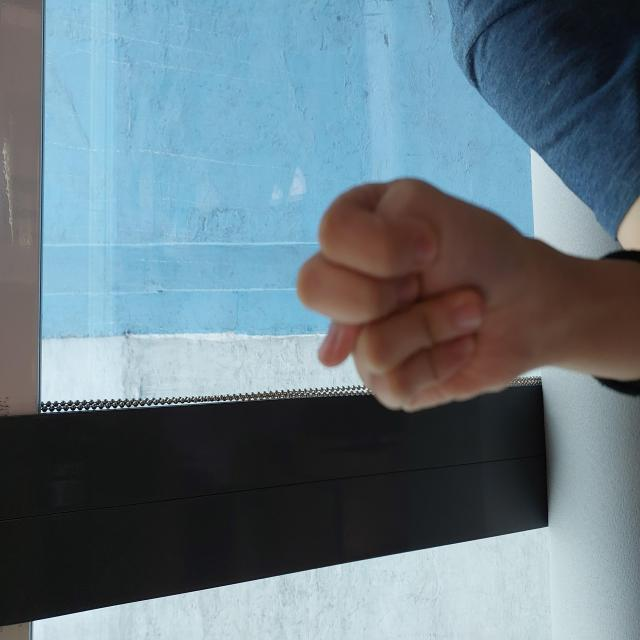N: (226, 296, 464, 514)
